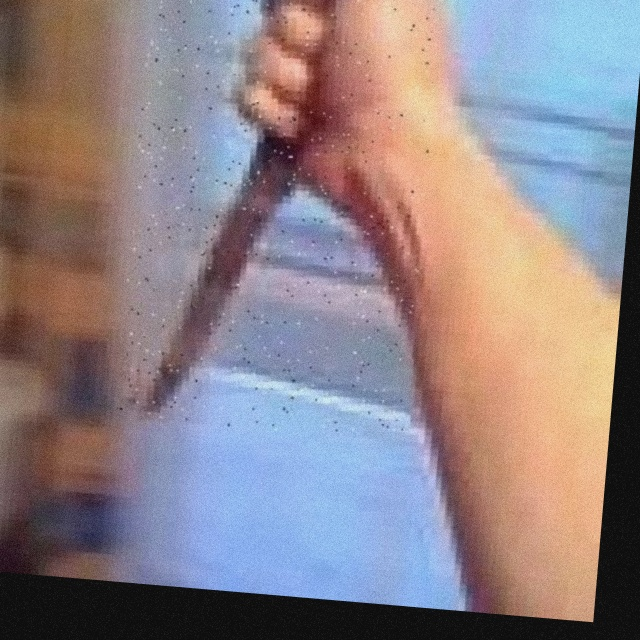Sharp-Object: (116, 0, 446, 440)
